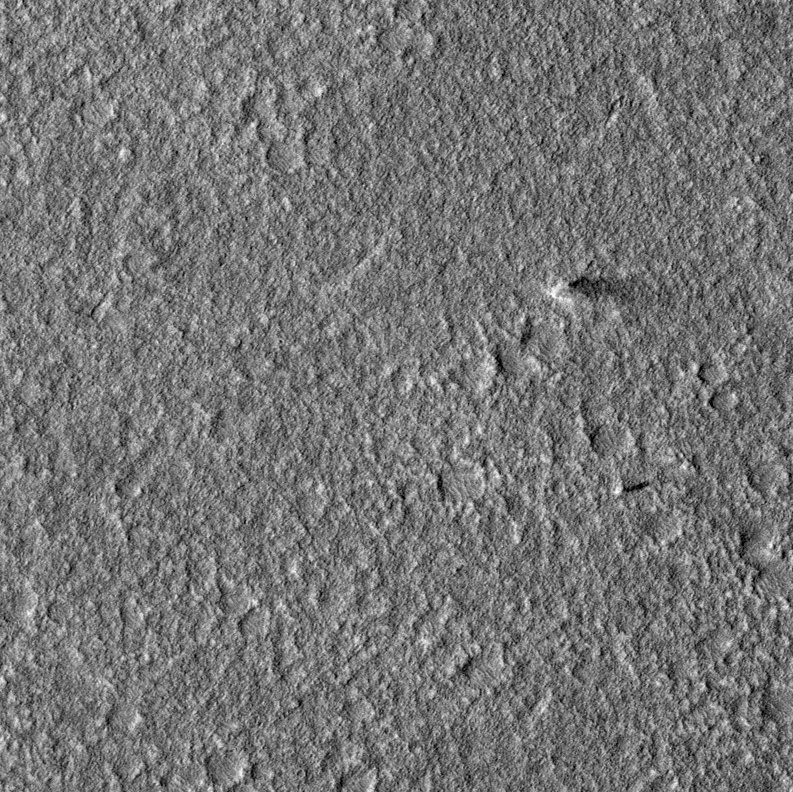dust_devil: (546, 273, 643, 306), (613, 476, 650, 496)
